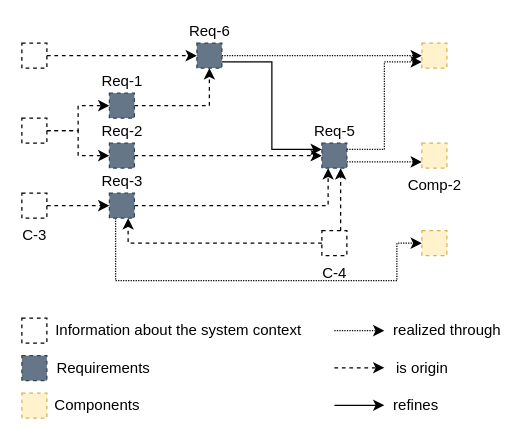
The diagram is 531 pixels wide and 440 high, and some of its shapes have lost their labels. The centre of each missing label's shape, as x and y in pixels:
"C-1" goes at [34,55].
"C-2" goes at [34,130].
"Comp-1" goes at [434,242].
"Comp-3" goes at [434,55].
